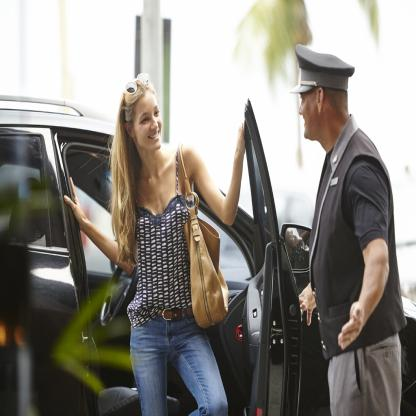Car: (1, 92, 416, 416)
